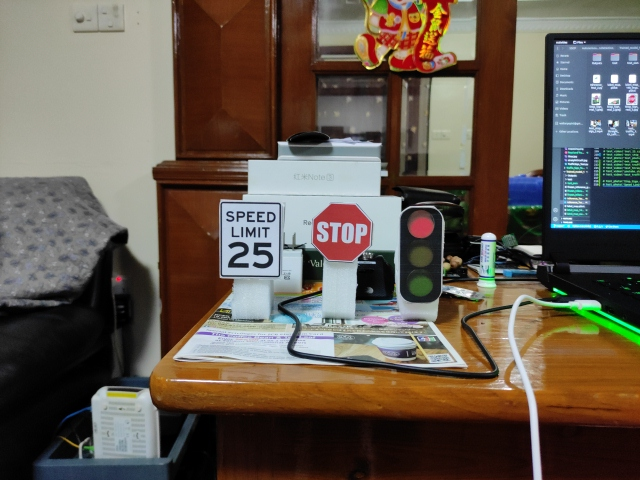Red Traffic Light: (399, 205, 443, 302)
Speed Limit 25: (218, 199, 284, 279)
Stop Sign: (310, 201, 375, 260)
